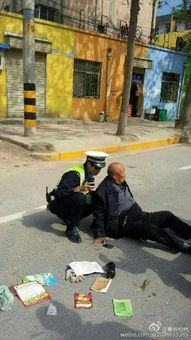bending: (91, 162, 191, 251), (46, 145, 112, 243)
